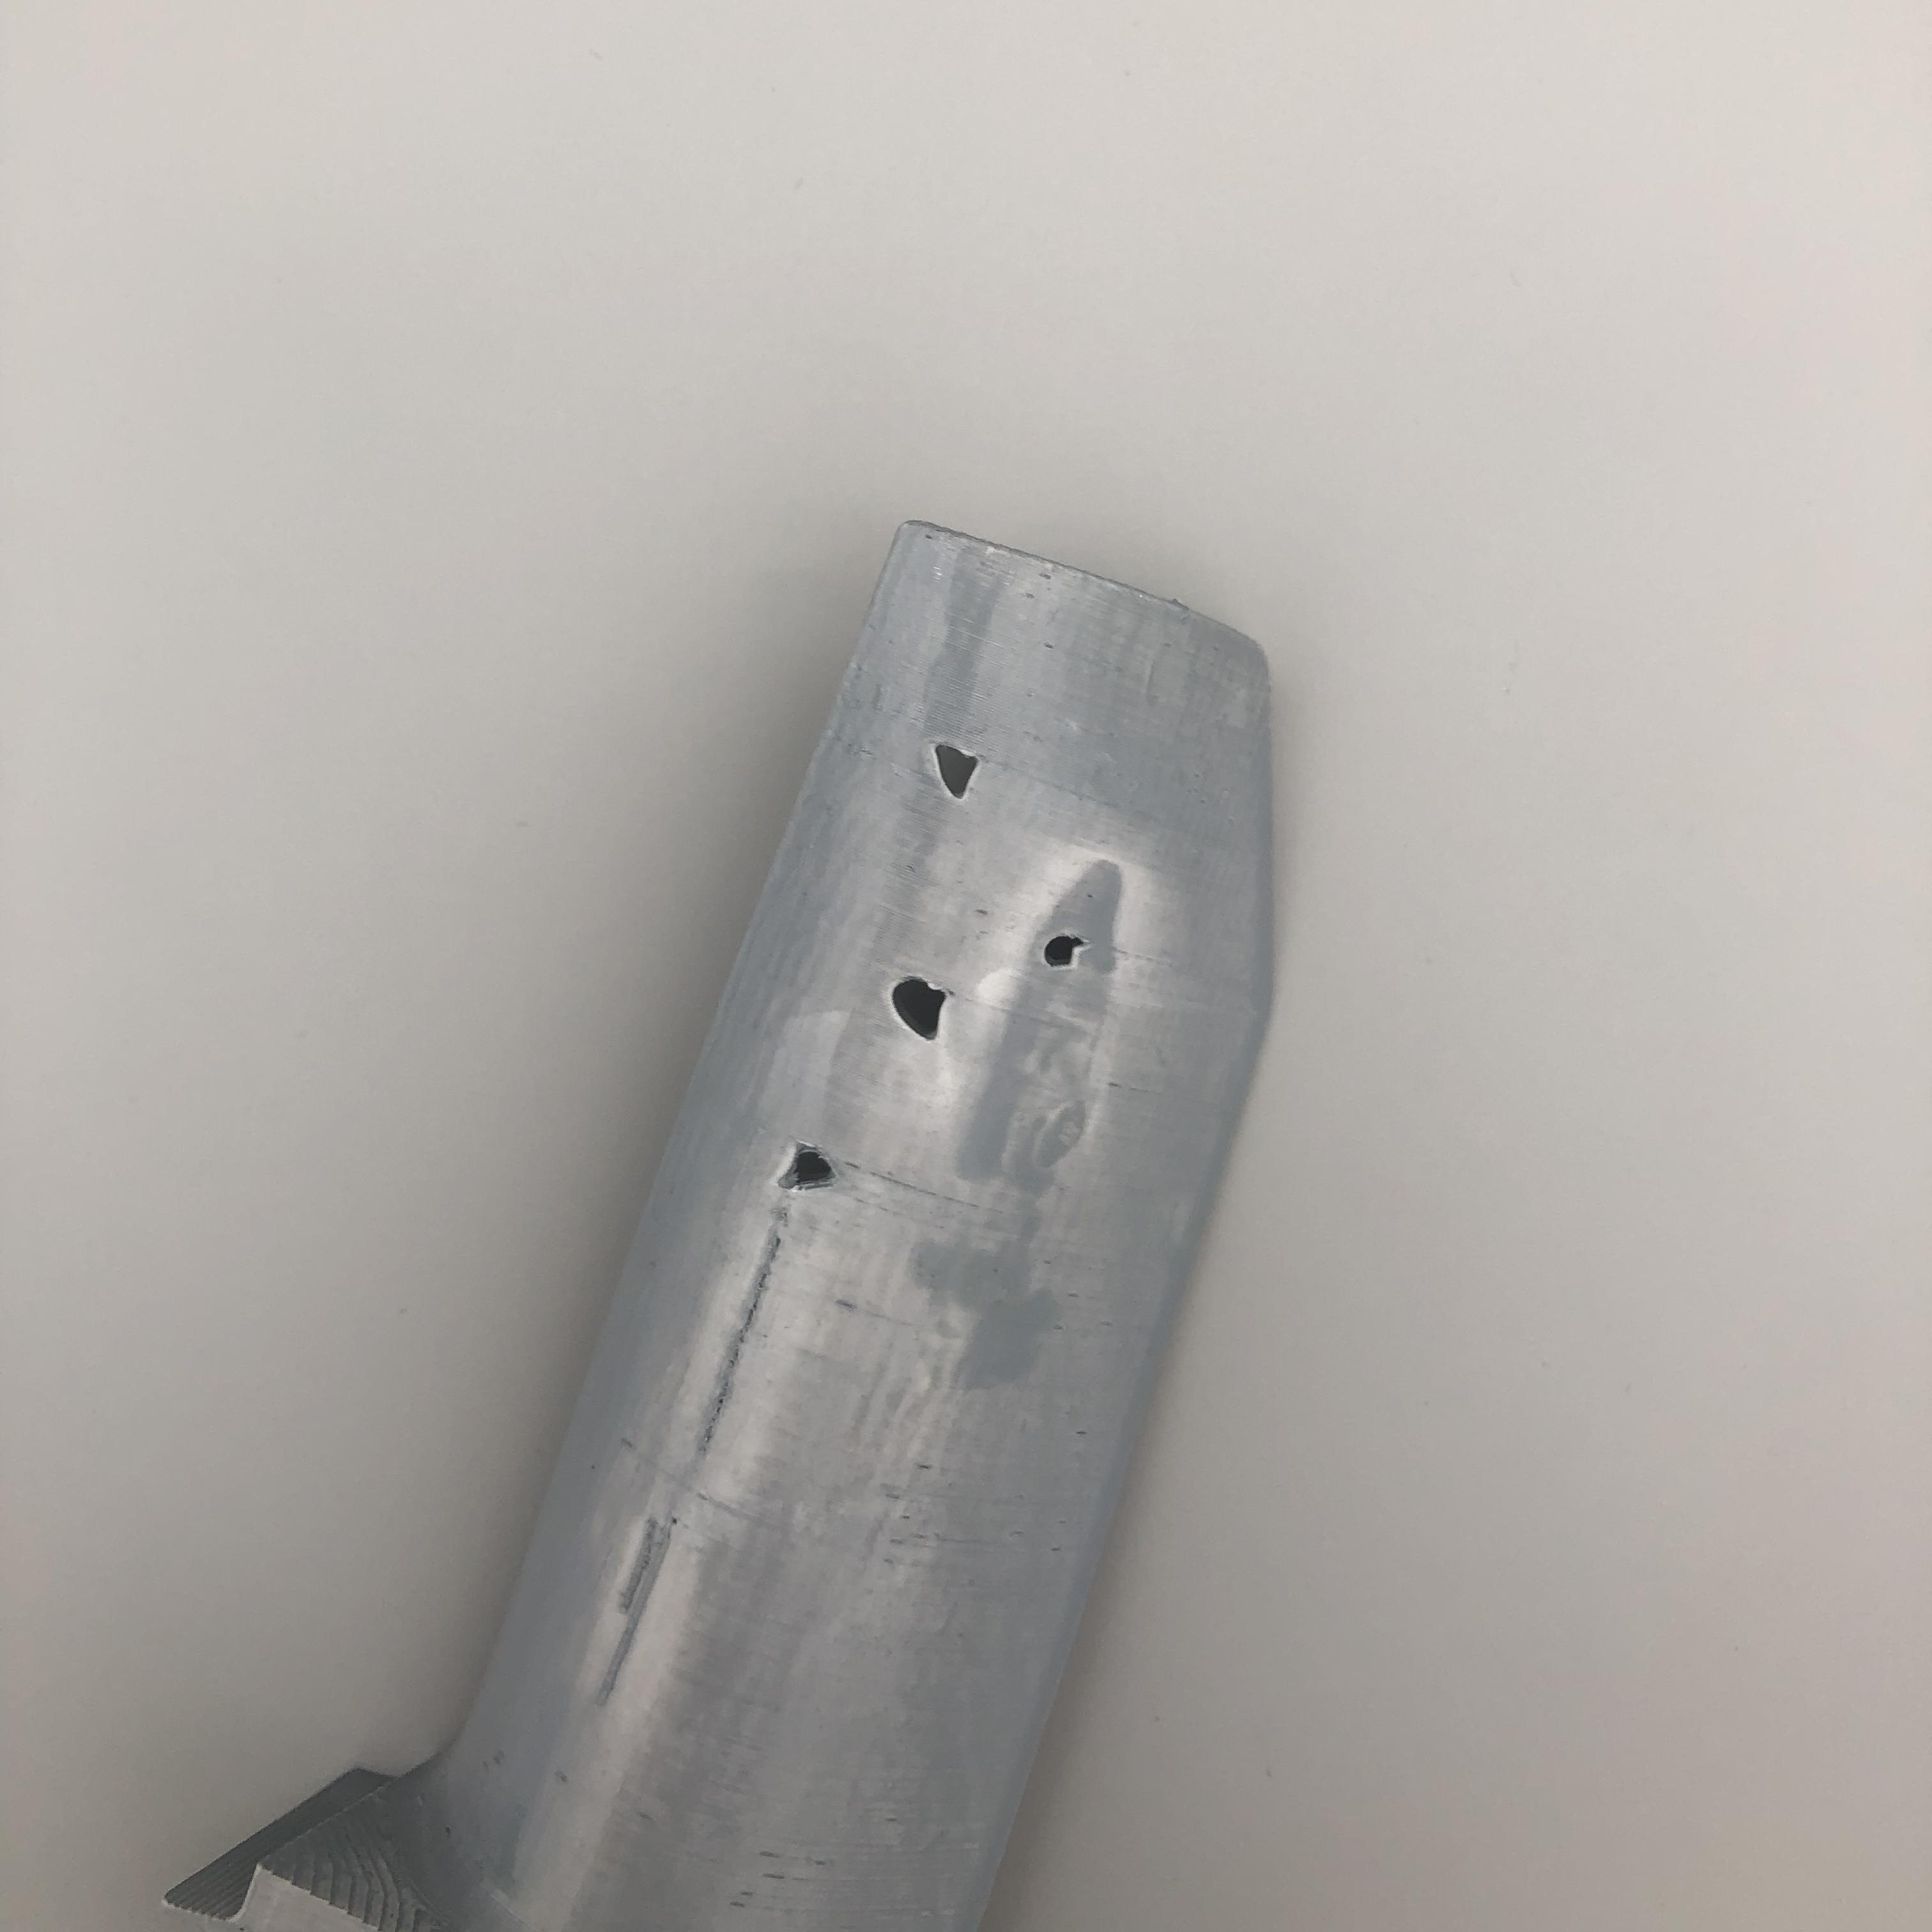breakdown: (886, 738, 1099, 1046), (763, 1113, 863, 1207)
